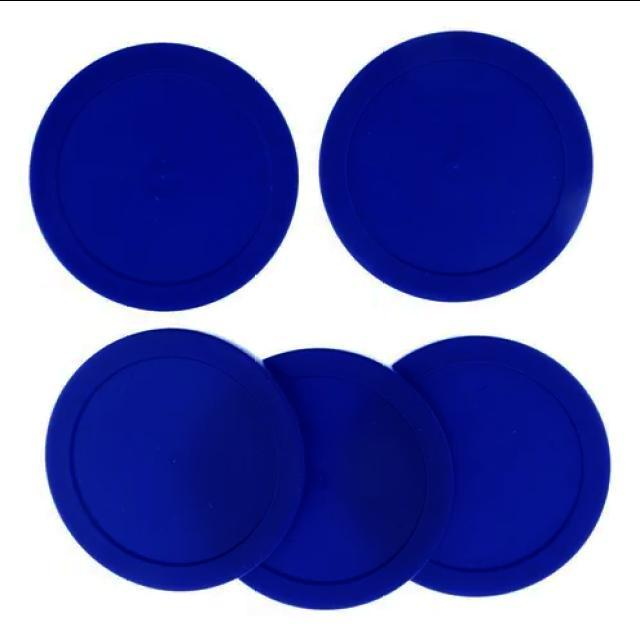chip: (319, 33, 593, 304), (29, 42, 298, 313)
